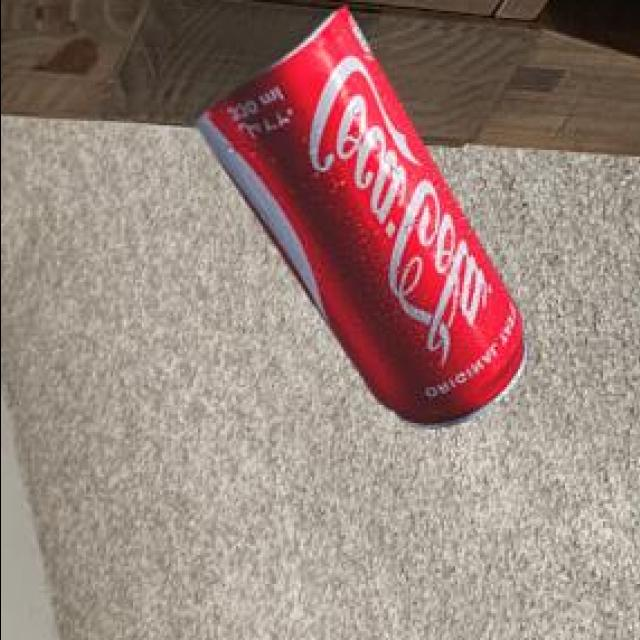logam: (191, 3, 523, 426)
